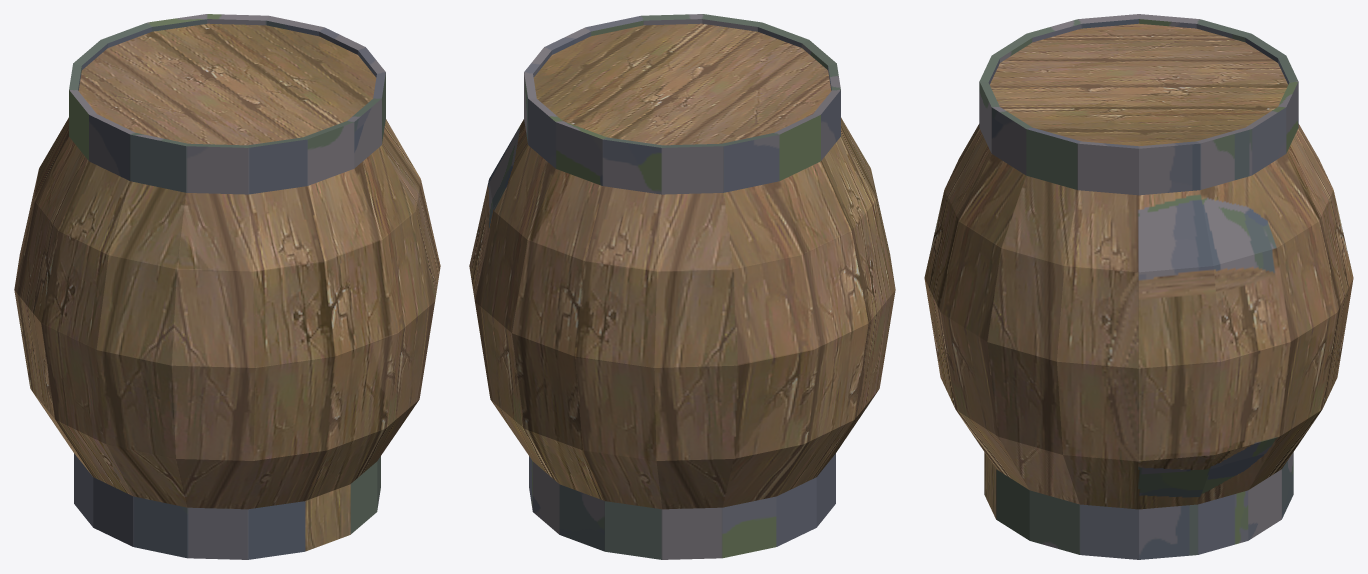
Rendered from bucket.fbx.
3 renders of one model, left to right at view 1: azimuth 30°, elevation 25°; view 2: azimuth 150°, elevation 25°; view 3: azimuth 270°, elevation 25°, orthographic.
Visible parts, largest first — view 1: bucket_UV; view 2: bucket_UV; view 3: bucket_UV.
Part boxes in pixels (x1,y1,x2,y2): bucket_UV: [14, 14, 440, 559]; bucket_UV: [469, 14, 895, 559]; bucket_UV: [924, 14, 1353, 559].
Bounding box in the file's own units: 200 × 213 × 200.
Materials: 1 (1 with a texture image).
